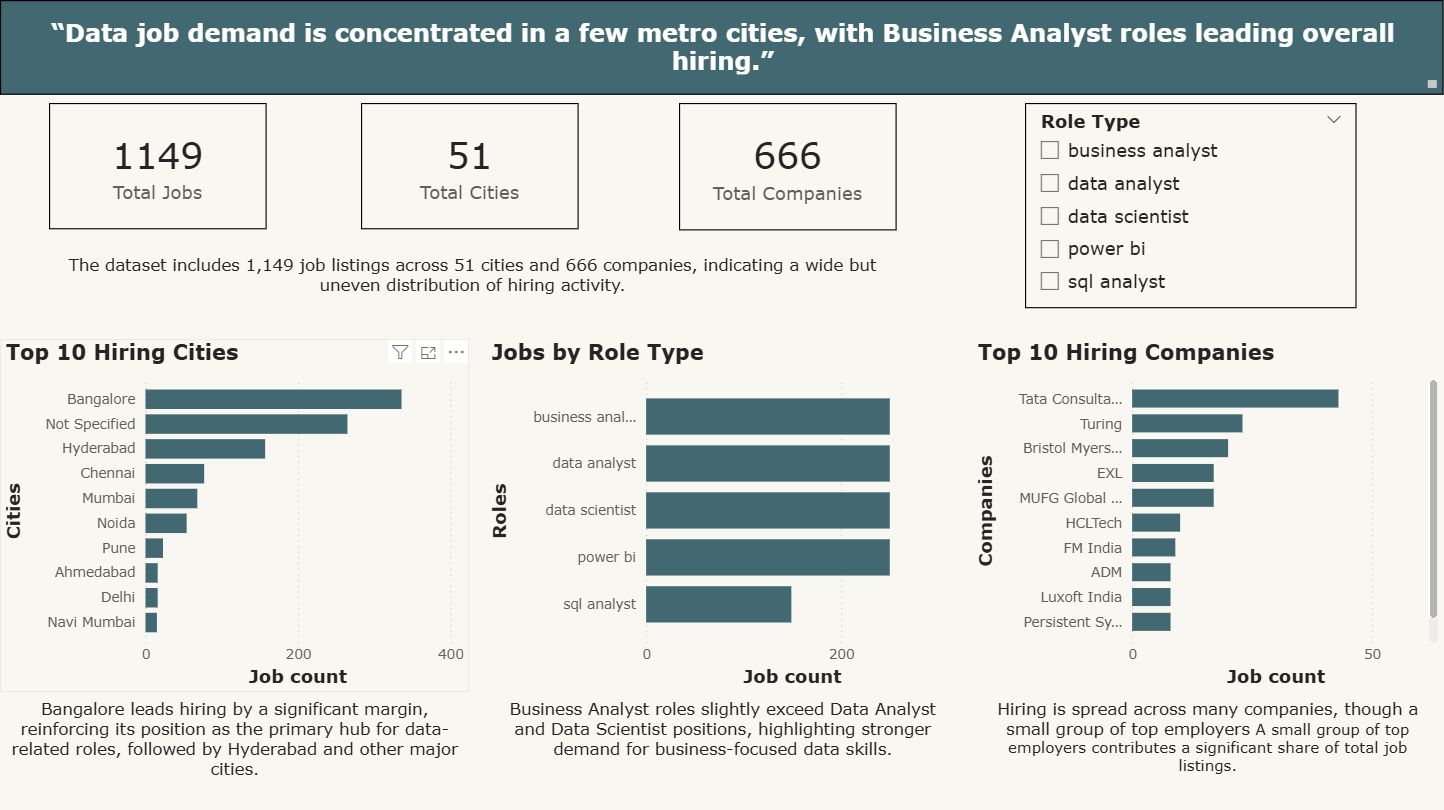

The page's visual inventory and layout, read from the dashboard file:
{"tool":"powerbi","page":{"name":"Dashboard","canvas":[1280,720],"ordinal":0},"visuals":[{"type":"textbox","box":[395.9,0,488.3,114.8],"z":0},{"type":"card","fields":{"Values":["CountNonNull(job_market job_listings.title)"]},"box":[42.6,114.4,192.4,112.6],"z":1},{"type":"card","fields":{"Values":["Count(job_market job_listings.company)"]},"box":[601.2,112.6,192.4,113.5],"z":2},{"type":"card","fields":{"Values":["Count(job_market job_listings.city)"]},"box":[321.9,113.5,192.4,112.6],"z":3},{"type":"clusteredBarChart","title":"Top 10 Hiring Cities","fields":{"Category":["job_market job_listings.city"],"Y":["CountNonNull(job_market job_listings.title)"]},"box":[2.7,386.6,415.9,313],"z":4},{"type":"clusteredBarChart","title":"Jobs by Role Type","fields":{"Category":["job_market job_listings.search_keyword"],"Y":["CountNonNull(job_market job_listings.title)"]},"box":[430.9,386.6,418.5,313],"z":5},{"type":"clusteredBarChart","title":"Top 10 Hiring Compnies","fields":{"Category":["job_market job_listings.company"],"Y":["CountNonNull(job_market job_listings.title)"]},"box":[861.9,386.6,418.5,313],"z":6},{"type":"slicer","fields":{"Values":["job_market job_listings.search_keyword"]},"box":[908,112.6,294.4,181.8],"z":7}]}

Visuals, with their boxes in screenshot pixels (x1, y1, x2, y2), scaled from the page's 1280x720 canvas onto the 1444x810 screenshot:
textbox: crop(447, 0, 997, 129)
card - CountNonNull(job_market job_listings.title): crop(48, 129, 265, 255)
card - Count(job_market job_listings.company): crop(678, 127, 895, 254)
card - Count(job_market job_listings.city): crop(363, 128, 580, 254)
"Top 10 Hiring Cities" clusteredBarChart: crop(3, 435, 472, 787)
"Jobs by Role Type" clusteredBarChart: crop(486, 435, 958, 787)
"Top 10 Hiring Compnies" clusteredBarChart: crop(972, 435, 1443, 787)
slicer - job_market job_listings.search_keyword: crop(1024, 127, 1356, 331)
